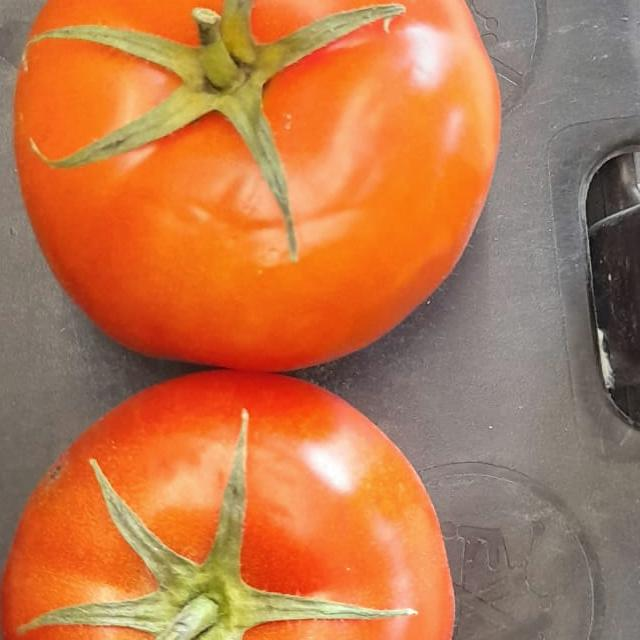tomato: (0, 0, 529, 383), (0, 350, 500, 640)
